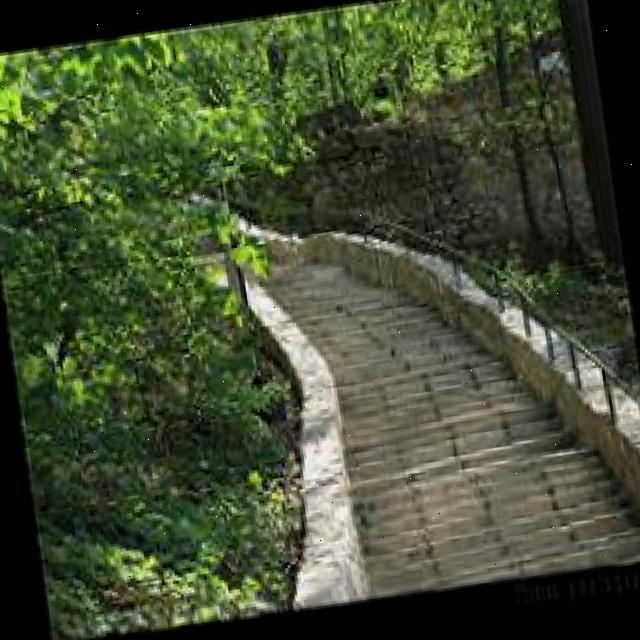stairs: (90, 121, 640, 635)
